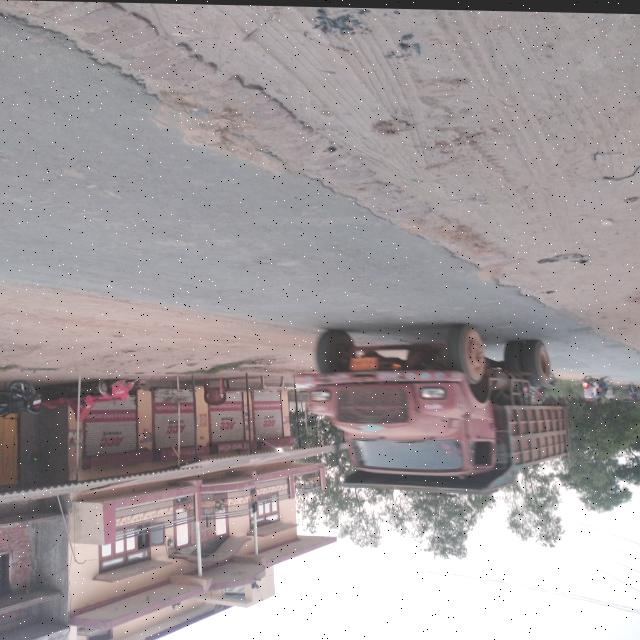plate: (349, 355, 378, 369), (31, 399, 42, 405)
